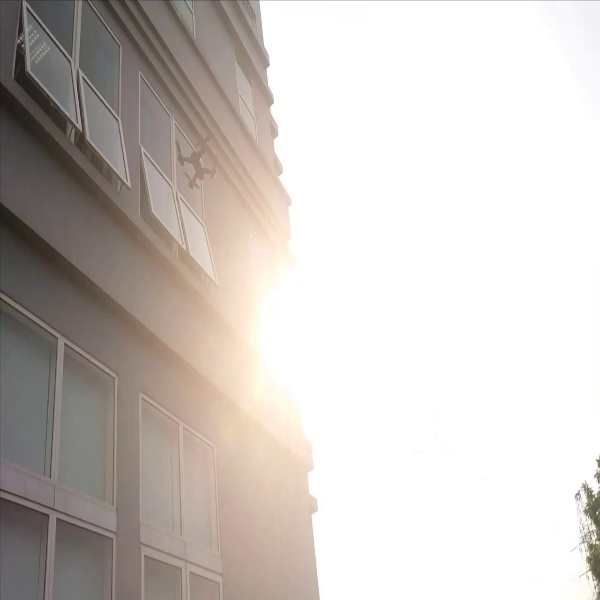drone: (167, 123, 228, 198)
